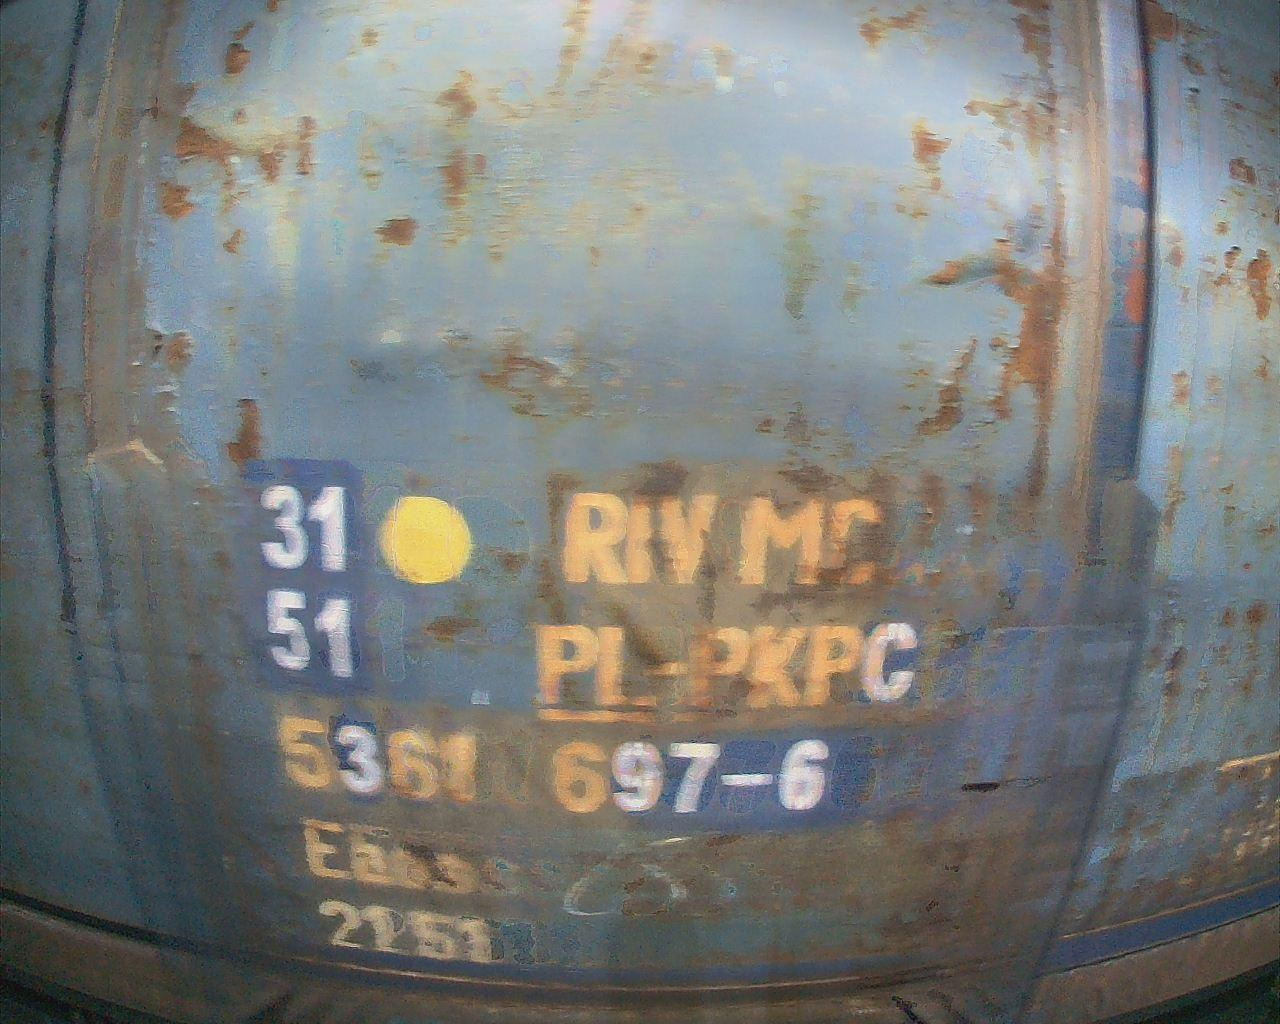UIC: (256, 474, 921, 972)
